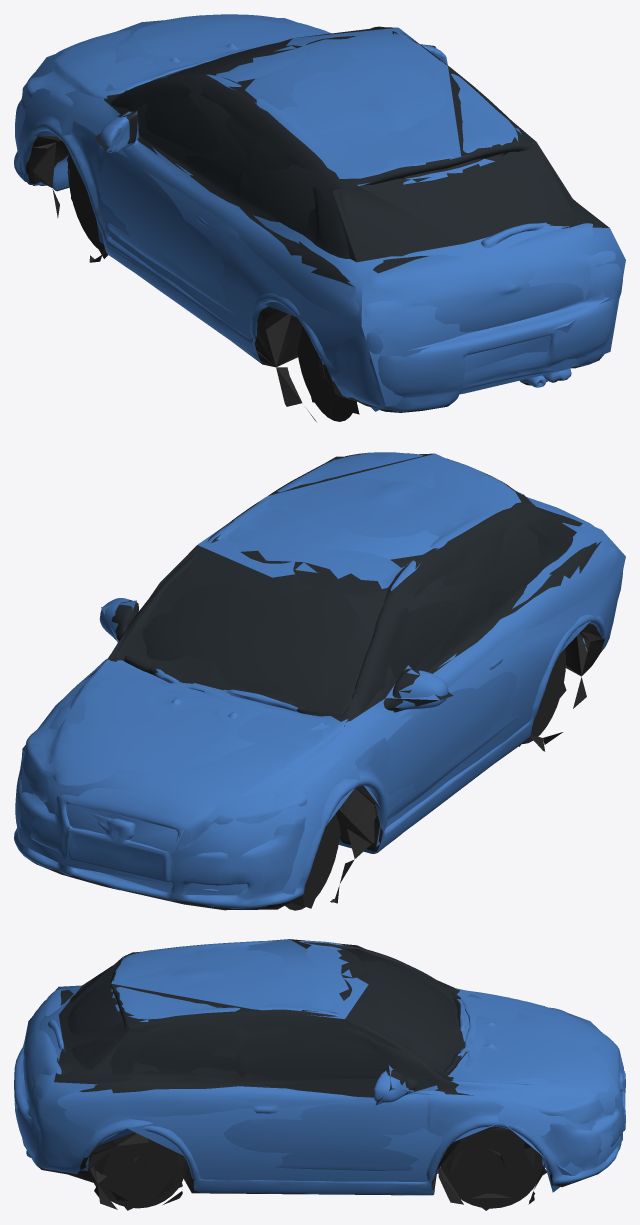
Rendered from volvo-c30.glb.
3 renders of one model, top to bottom at view 1: azimuth 30°, elevation 25°; view 2: azimuth 150°, elevation 25°; view 3: azimuth 270°, elevation 25°, orthographic. The views are drawn at different scales.
Parts seen in each view (by area): view 1: body, far; view 2: body, far; view 3: body, far.
Boxes of the visible parts, left/top/right/bottom form: body: left=14, top=14, right=623, bottom=421; far: left=17, top=18, right=625, bottom=414; body: left=14, top=452, right=623, bottom=910; far: left=17, top=453, right=625, bottom=908; body: left=14, top=940, right=625, bottom=1209; far: left=14, top=939, right=623, bottom=1210.
Size of the model in its own units: 2.18 by 1.57 by 4.27.
